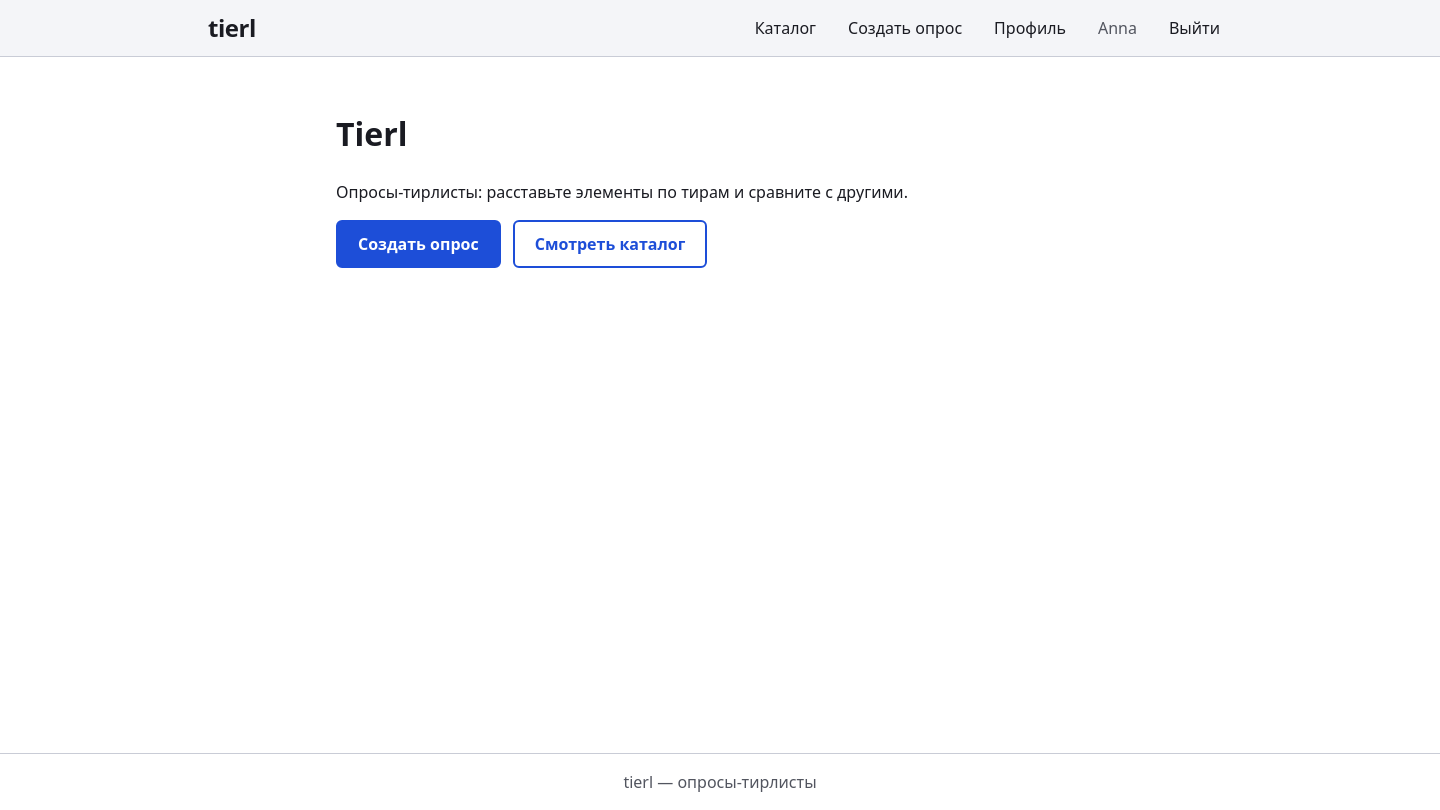
it: Layout › shows the user name and logs out
The width and height of the screenshot is (1440, 810).
Check: the text "Anna" is shown, box [1098, 17, 1137, 39]
Check: the link "Вход" is not shown
Click the button "Выйти" at (1194, 28), box [1157, 8, 1232, 48]
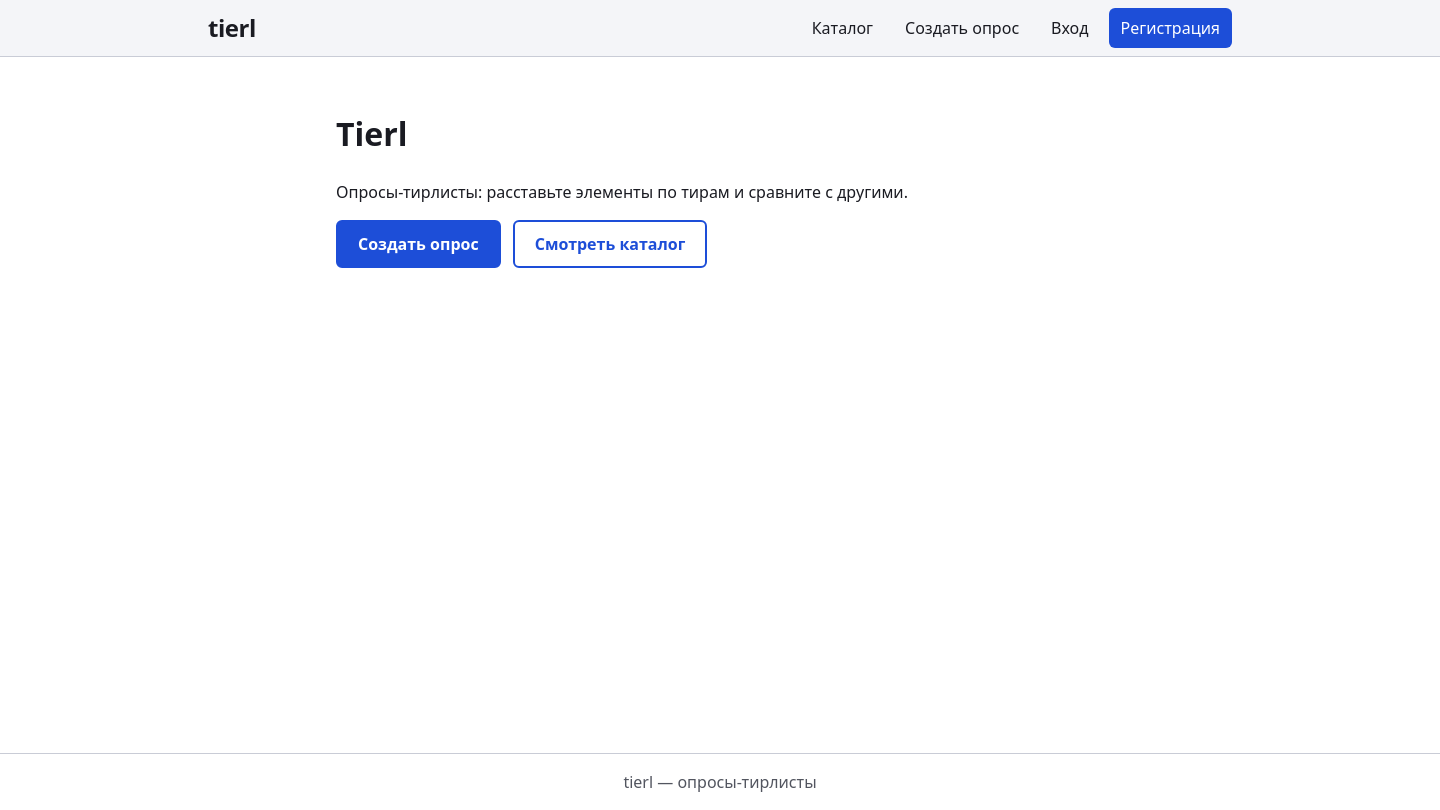
Check: the link "Вход" is shown, box [1051, 17, 1089, 39]
Check: the text "Anna" is gone
